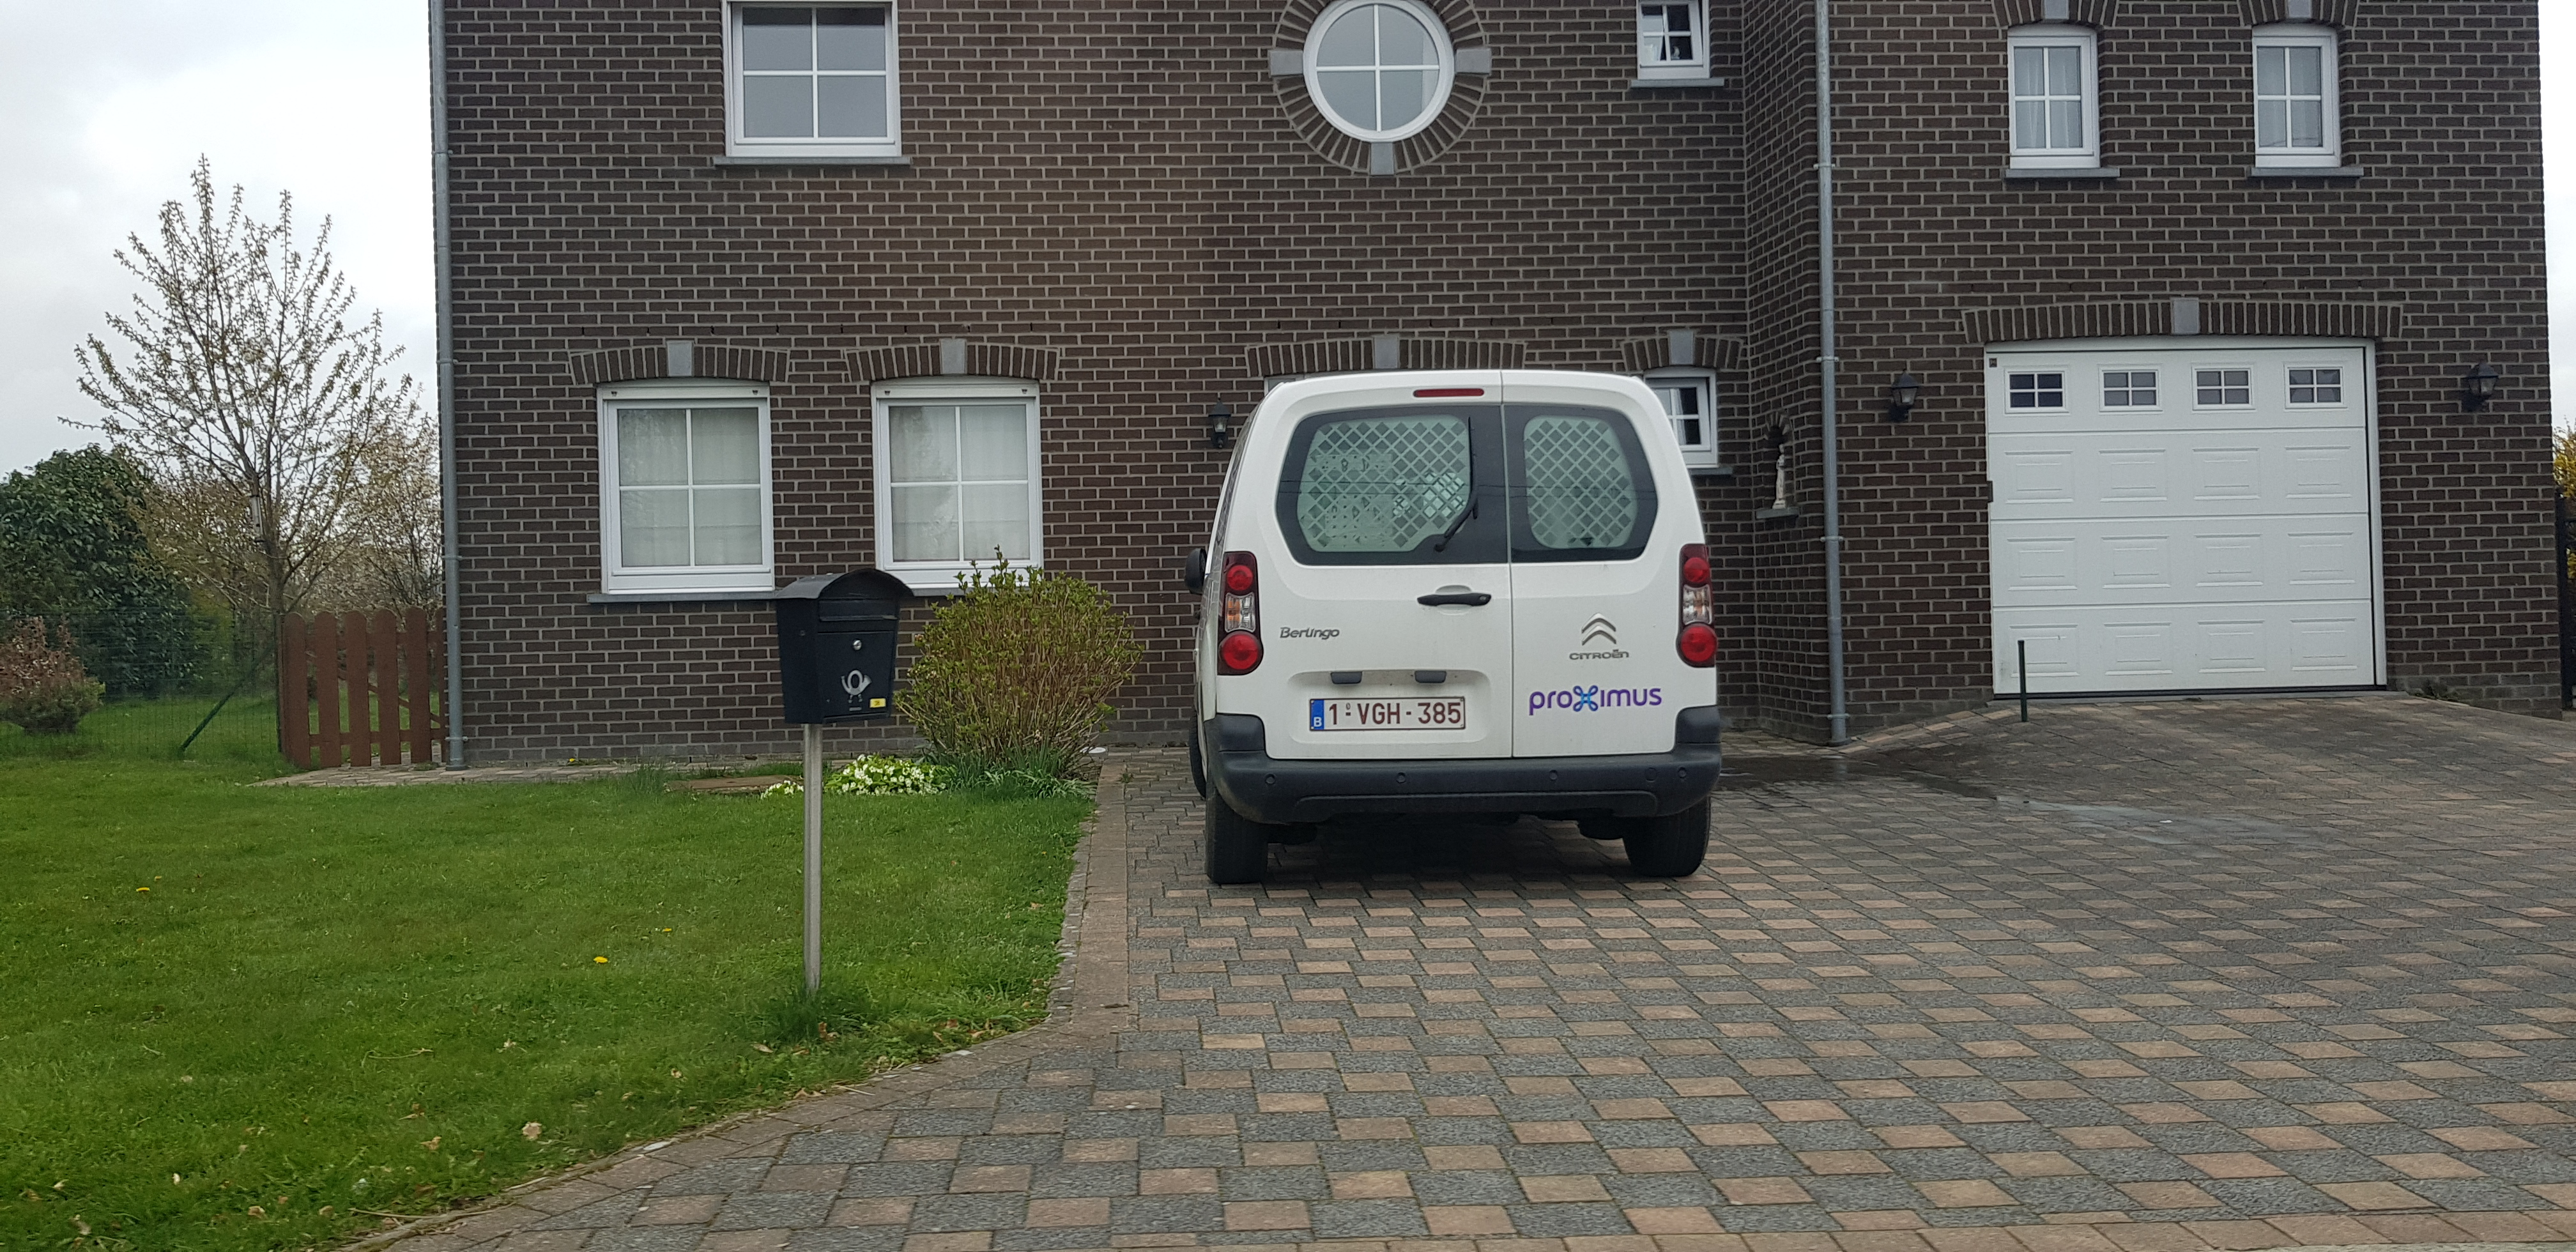licenceplate: (1308, 697, 1468, 731)
